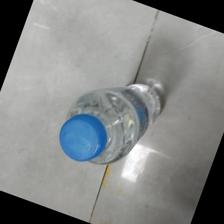Lavie: (60, 79, 164, 166)
